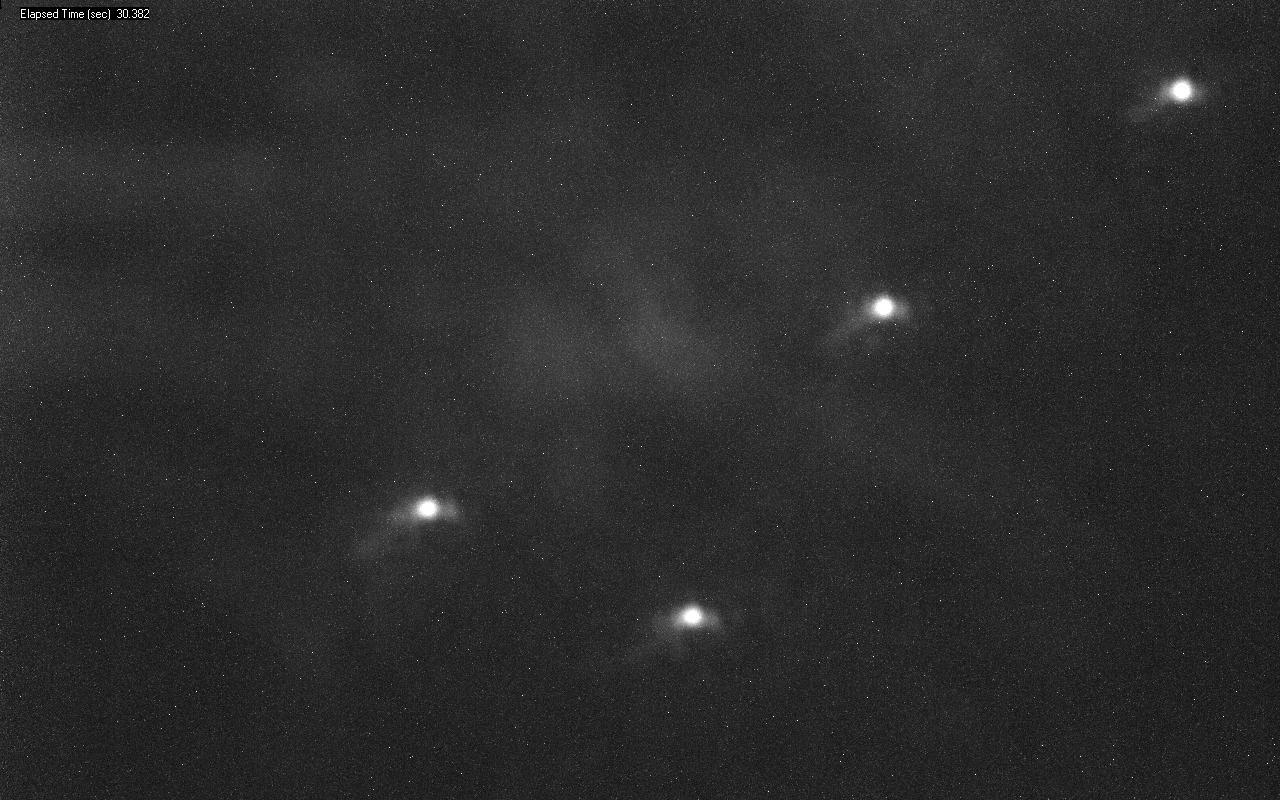Bead: (671, 602, 714, 629), (413, 496, 457, 521), (1160, 78, 1201, 104), (867, 295, 904, 320)
